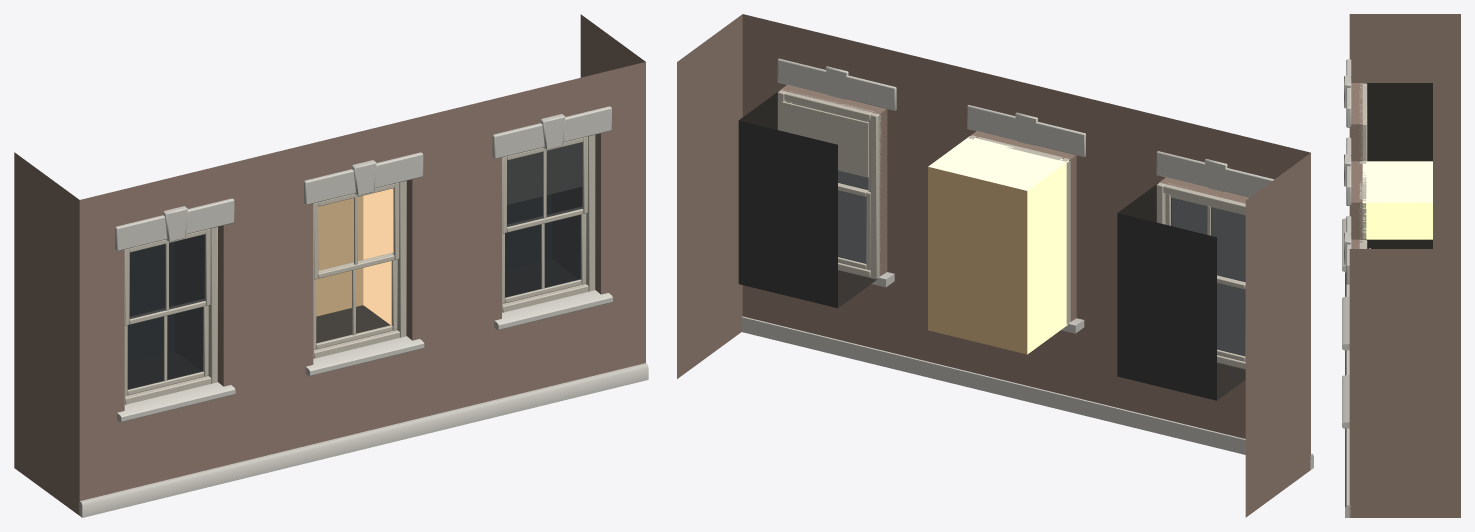
Rendered from upper_6a.glb.
3 views of the same model, side by side, from view 1: azimuth 30°, elevation 25°; view 2: azimuth 150°, elevation 25°; view 3: azimuth 270°, elevation 25° (orthographic). The views are drawn at different scales.
Parts seen in each view (by area): view 1: upper_6a; view 2: upper_6a; view 3: upper_6a.
Part boxes in pixels (x1,y1,x2,y2): upper_6a: (14, 14, 648, 517); upper_6a: (677, 14, 1313, 517); upper_6a: (1342, 14, 1460, 517).
Size of the model in its own units: 6 by 3.2 by 1.28.
